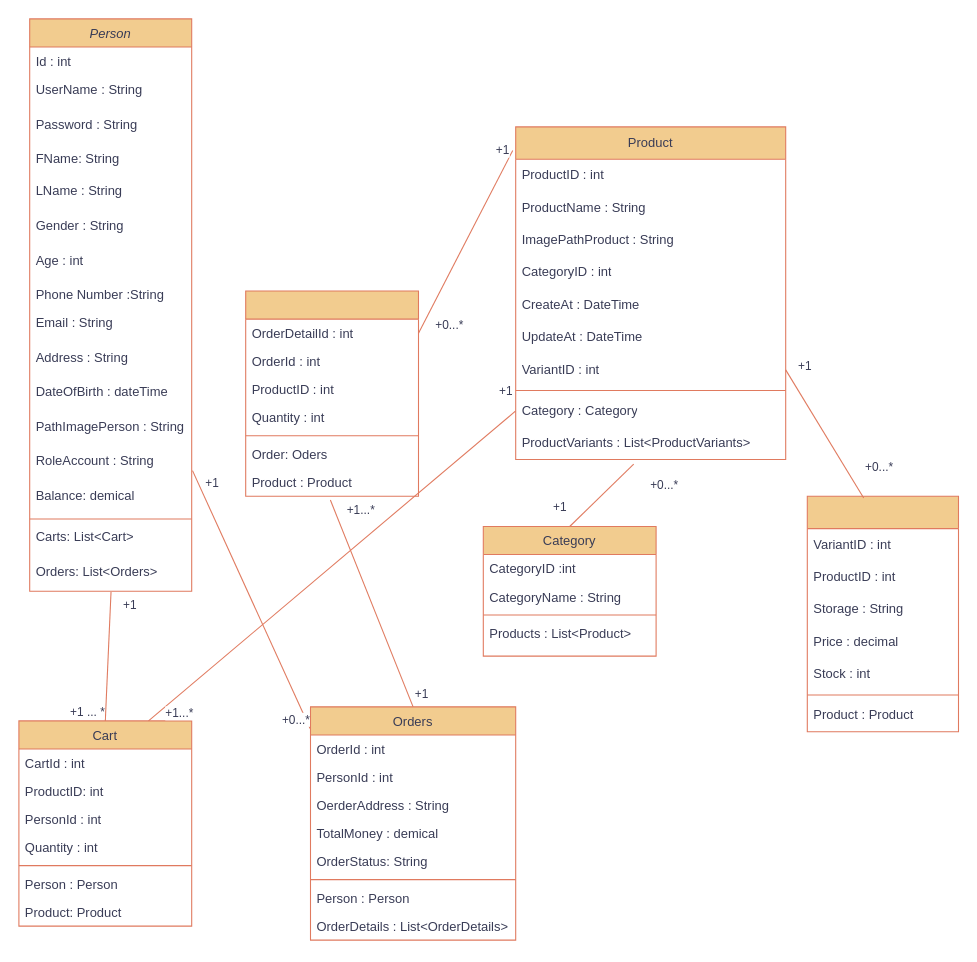
Image size: 977x962. Some labels were removed from this diagram. The shapes that lost their labels are listed below. From the top down, each one's box as (x1, y1, x2, y2) in pixels, then its label:
(245, 290, 418, 496): OrderDetails
(806, 495, 959, 732): ProductVariants
